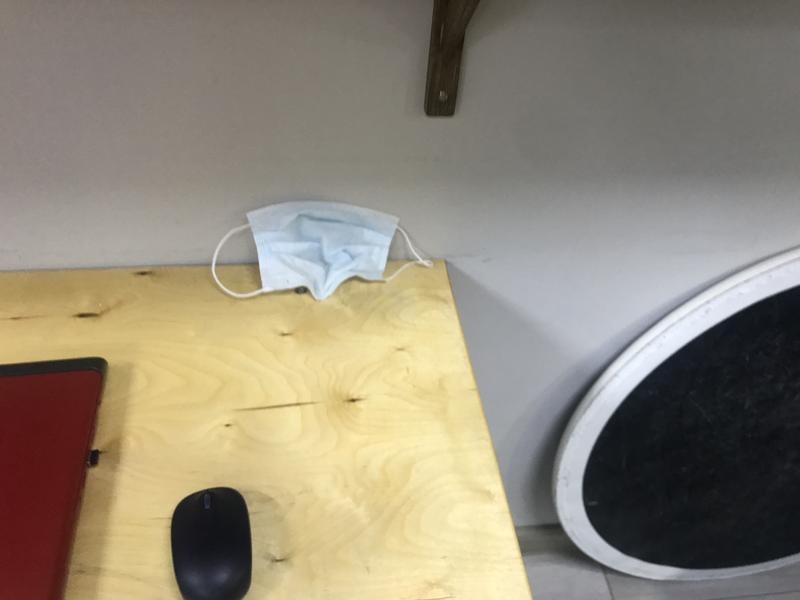medical_mask: (211, 201, 435, 301)
